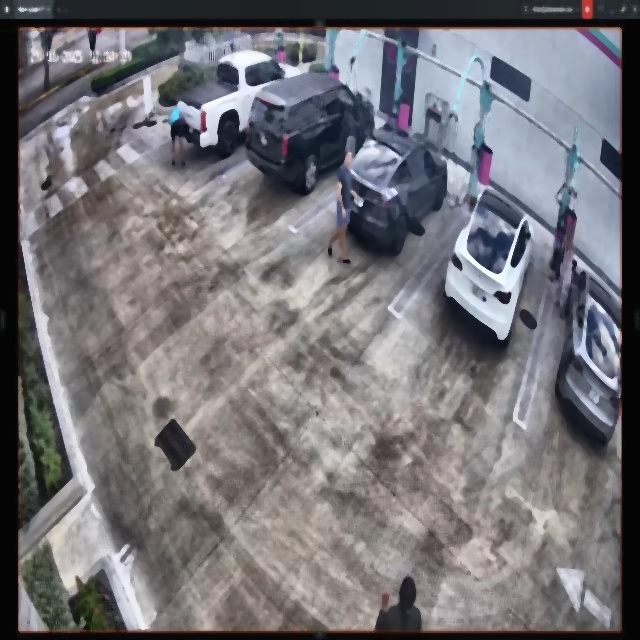Car: (446, 177, 534, 353), (249, 73, 373, 195), (177, 47, 302, 154), (342, 122, 448, 246)
